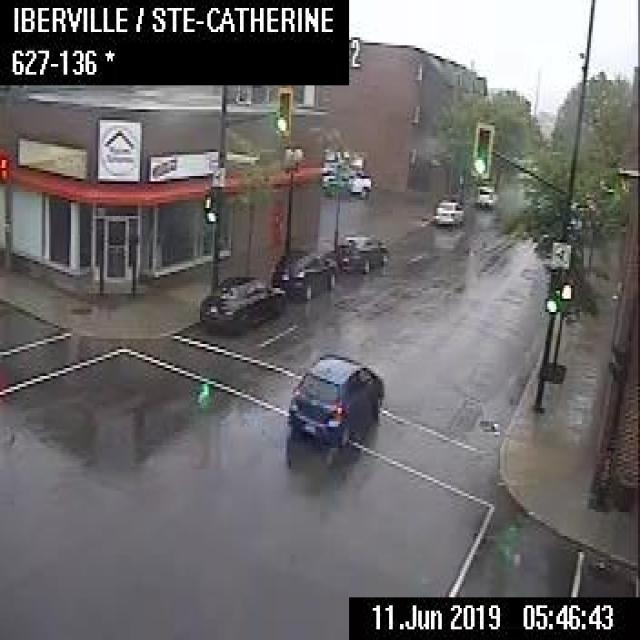vehicle: (286, 349, 384, 445), (198, 275, 285, 333), (270, 249, 336, 294), (333, 232, 387, 271), (319, 166, 370, 197), (431, 195, 463, 226), (477, 184, 498, 208)
